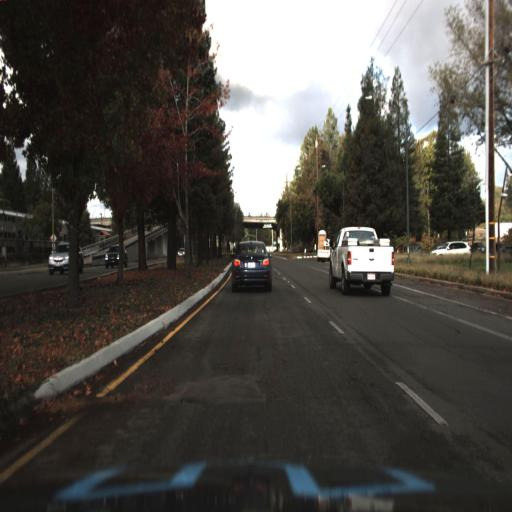car: (324, 217, 401, 305), (228, 232, 272, 293), (427, 233, 475, 269), (46, 236, 81, 281), (101, 240, 125, 272), (102, 241, 128, 270), (432, 238, 471, 257), (315, 229, 332, 266), (317, 227, 332, 259)
